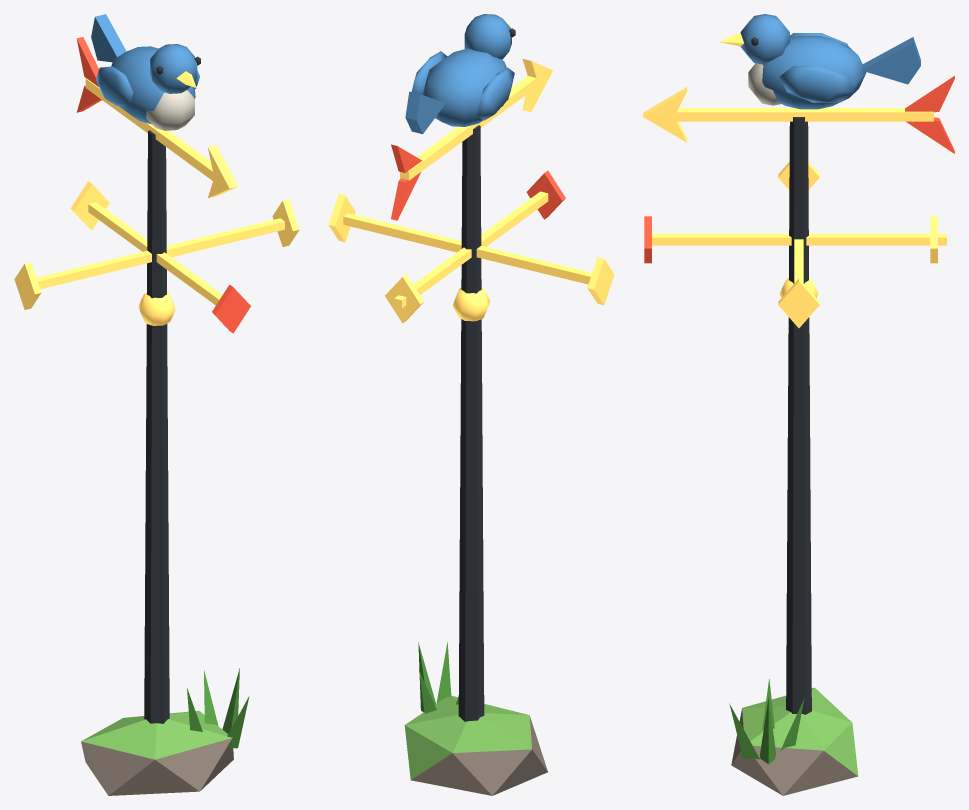
Rendered from weathervane.glb.
3 renders of one model, left to right at view 1: azimuth 30°, elevation 25°; view 2: azimuth 150°, elevation 25°; view 3: azimuth 270°, elevation 25°, orthographic.
Parts seen in each view (by area): view 1: weathervane; view 2: weathervane; view 3: weathervane.
Boxes of the visible parts, x1,y1,x2,y2 form: weathervane: (14, 14, 299, 795); weathervane: (328, 14, 614, 795); weathervane: (643, 14, 954, 795).
Size of the model in its own units: 1.19 by 3.26 by 1.2.
